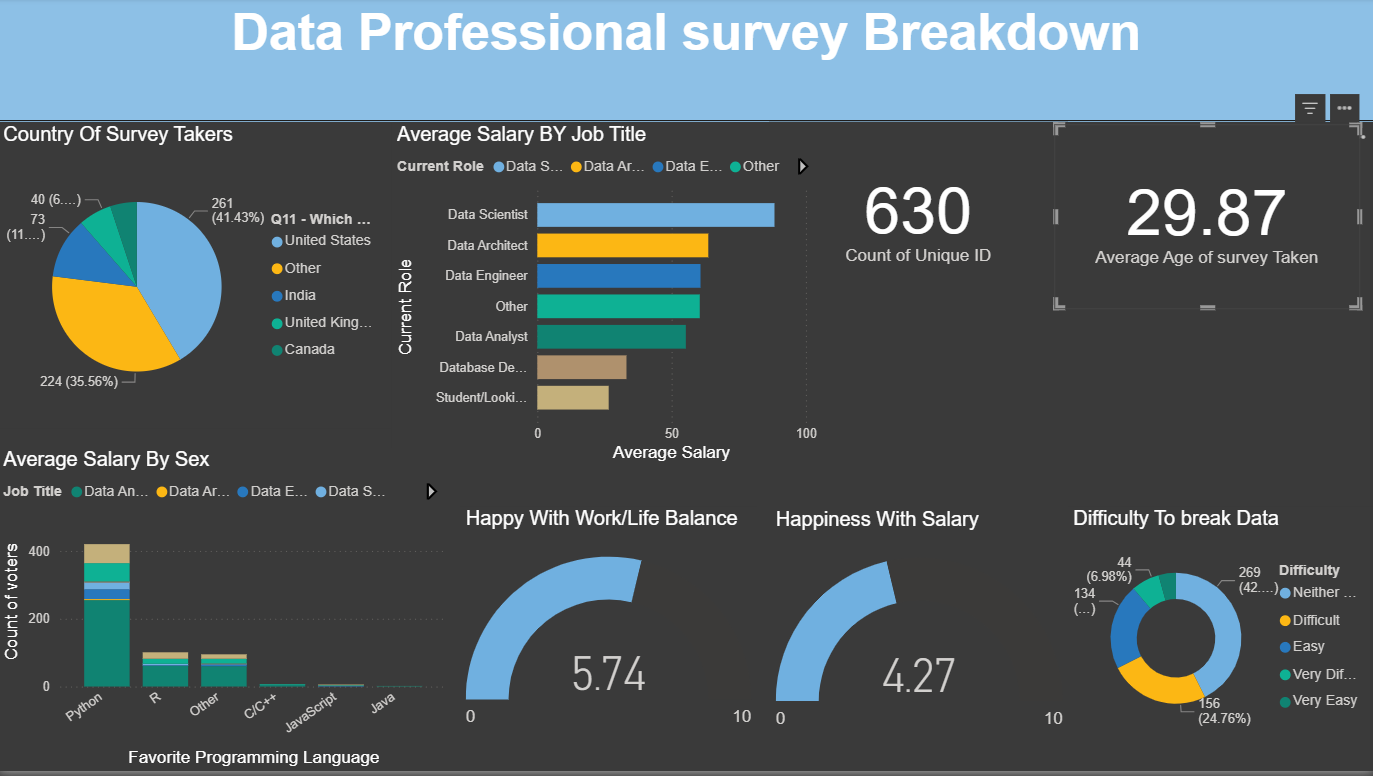

What the dashboard file says about the page in this screenshot:
{"tool":"powerbi","page":{"name":"Page 1","canvas":[1280,720],"ordinal":0},"visuals":[{"type":"textbox","box":[10,0,280,280],"z":0},{"type":"textbox","box":[10,570,280,150],"z":1000},{"type":"textbox","box":[0,0,1280.3,115.3],"z":2000},{"type":"textbox","box":[9.6,289.5,279.9,70],"z":3000},{"type":"card","fields":{"Values":["CountNonNull(Data Professional Survey.Unique ID)"]},"box":[717.1,115.7,277.6,173.5],"z":4000},{"type":"card","fields":{"Values":["Avg(Data Professional Survey.Q10 - Current Age)"]},"box":[982.9,117.1,284.3,172.9],"z":5000},{"type":"barChart","title":"Average Salary BY Job Title","fields":{"Category":["Data Professional Survey.Q1 - Which Title Best Fits your Current Role?.1"],"Y":["Avg(Data Professional Survey.Average Salary)"],"Series":["Data Professional Survey.Q1 - Which Title Best Fits your Current Role?.1"]},"box":[365.7,115.7,401.4,320],"z":6000},{"type":"columnChart","title":"Average Salary By Sex","fields":{"Category":["Data Professional Survey.Q5 - Favorite Programming Language.1"],"Y":["CountNonNull(Data Professional Survey.Unique ID)"],"Series":["Data Professional Survey.Q1 - Which Title Best Fits your Current Role?.1"]},"box":[0,418.6,422.9,301.4],"z":7000},{"type":"pieChart","title":"Country Of Survey Takers","fields":{"Category":["Data Professional Survey.Q11 - Which Country do you live in?.1"],"Y":["CountNonNull(Data Professional Survey.Q11 - Which Country do you live in?.1)"]},"box":[0,115.7,365.7,284.3],"z":8000},{"type":"gauge","title":"Happy With Work/Life Balance","fields":{"Y":["Avg(Data Professional Survey.Q6 - How Happy are you in your Current Position with the following? (Work/Life Balance))"],"MinValue":["Min(Data Professional Survey.Q6 - How Happy are you in your Current Position with the following? (Work/Life Balance))"],"MaxValue":["Max(Data Professional Survey.Q6 - How Happy are you in your Current Position with the following? (Work/Life Balance))"]},"box":[430,472.9,275.7,232.9],"z":9000},{"type":"gauge","title":"Happiness With Salary","fields":{"Y":["Avg(Data Professional Survey.Q6 - How Happy are you in your Current Position with the following? (Salary))"],"MinValue":["Min(Data Professional Survey.Q6 - How Happy are you in your Current Position with the following? (Salary))"],"MaxValue":["Max(Data Professional Survey.Q6 - How Happy are you in your Current Position with the following? (Salary))"]},"box":[718.6,474.3,277.1,232.9],"z":10000},{"type":"donutChart","title":"Difficulty To break Data","fields":{"Category":["Data Professional Survey.Q7 - How difficult was it for you to break into Data?"],"Y":["CountNonNull(Data Professional Survey.Q7 - How difficult was it for you to break into Data?)"]},"box":[995.7,472.9,284.3,224.3],"z":11000}]}

Visuals, with their boxes in screenshot pixels (x1, y1, x2, y2), scaled from the page's 1280x720 canvas onto the 1373x776 screenshot:
textbox: [left=11, top=0, right=311, bottom=302]
textbox: [left=11, top=614, right=311, bottom=775]
textbox: [left=0, top=0, right=1372, bottom=124]
textbox: [left=10, top=312, right=311, bottom=387]
card - CountNonNull(Data Professional Survey.Unique ID): [left=769, top=125, right=1067, bottom=312]
card - Avg(Data Professional Survey.Q10 - Current Age): [left=1054, top=126, right=1359, bottom=313]
"Average Salary BY Job Title" barChart: [left=392, top=125, right=823, bottom=470]
"Average Salary By Sex" columnChart: [left=0, top=451, right=454, bottom=775]
"Country Of Survey Takers" pieChart: [left=0, top=125, right=392, bottom=431]
"Happy With Work/Life Balance" gauge: [left=461, top=510, right=757, bottom=761]
"Happiness With Salary" gauge: [left=771, top=511, right=1068, bottom=762]
"Difficulty To break Data" donutChart: [left=1068, top=510, right=1372, bottom=751]
